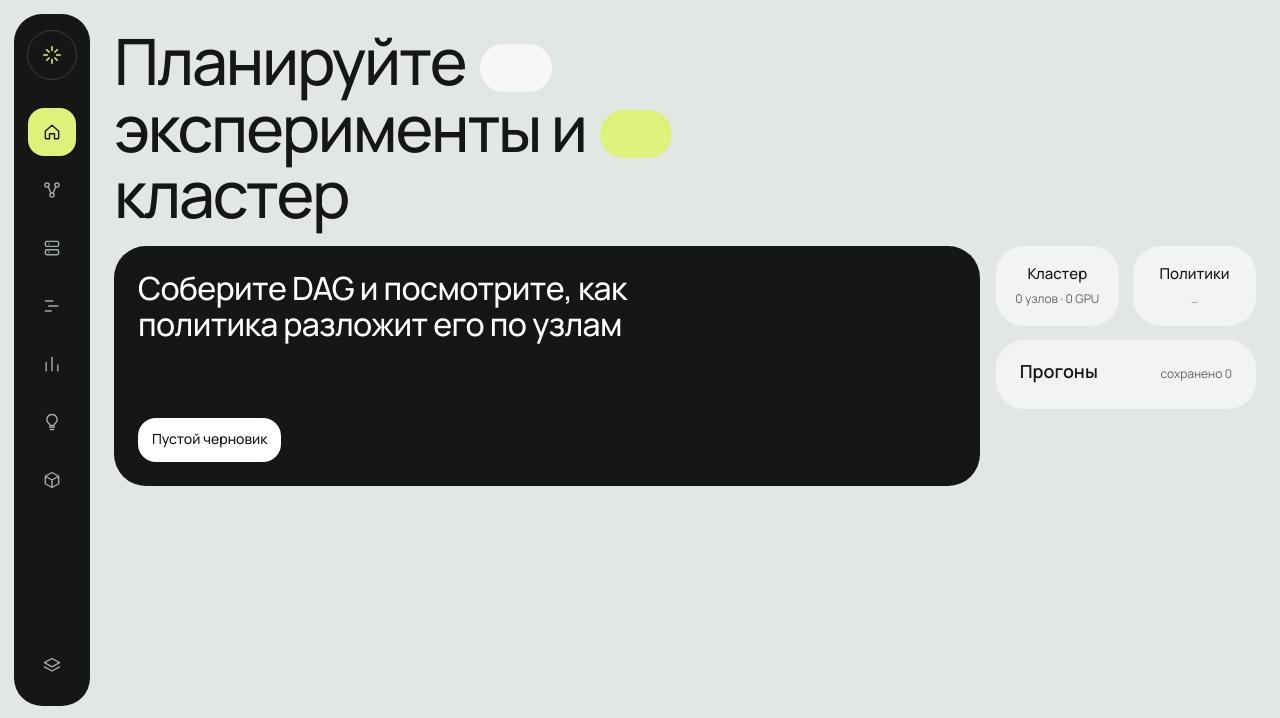
Test: оболочка › переходит по разделам без перезагрузки
The width and height of the screenshot is (1280, 718).
Click the link named "Дизайн-система" at (52, 666), box [42,656,62,676]
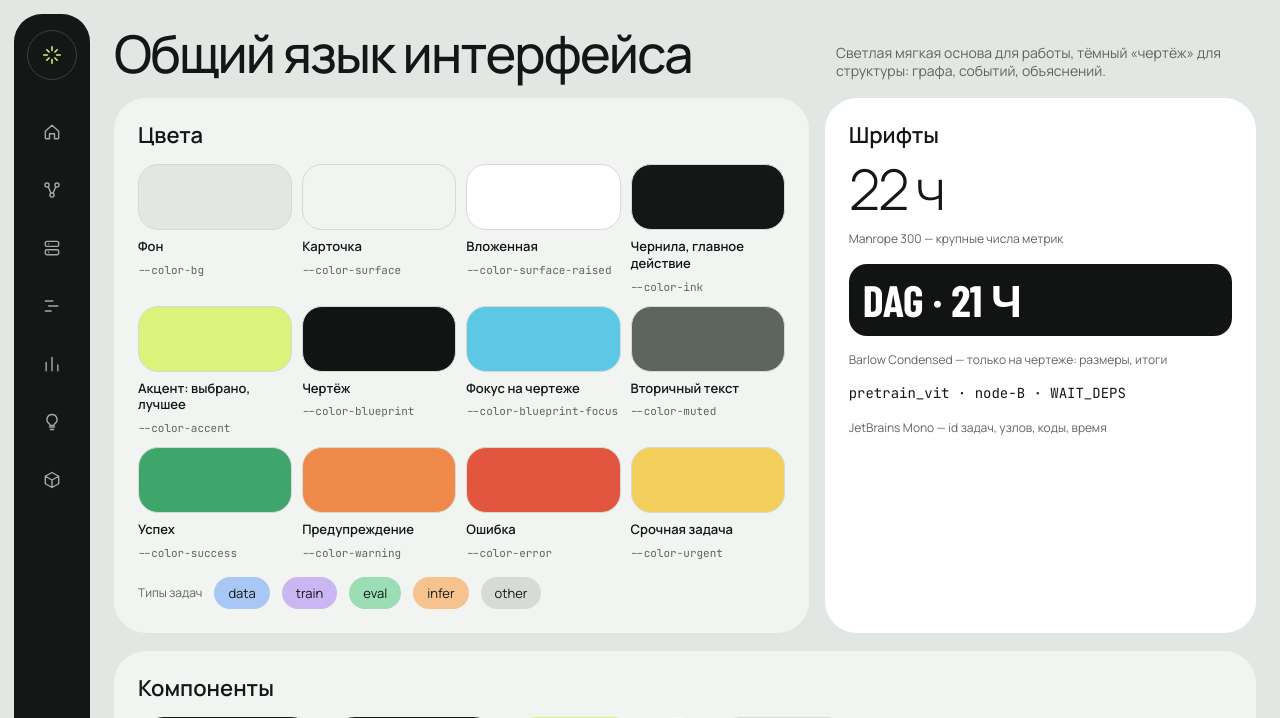
Now the heading "Общий язык интерфейса" is shown, box [114,28,692,80]
Click the link named "Контейнеры" at (52, 480), box [42,470,62,490]
(page scrolled)
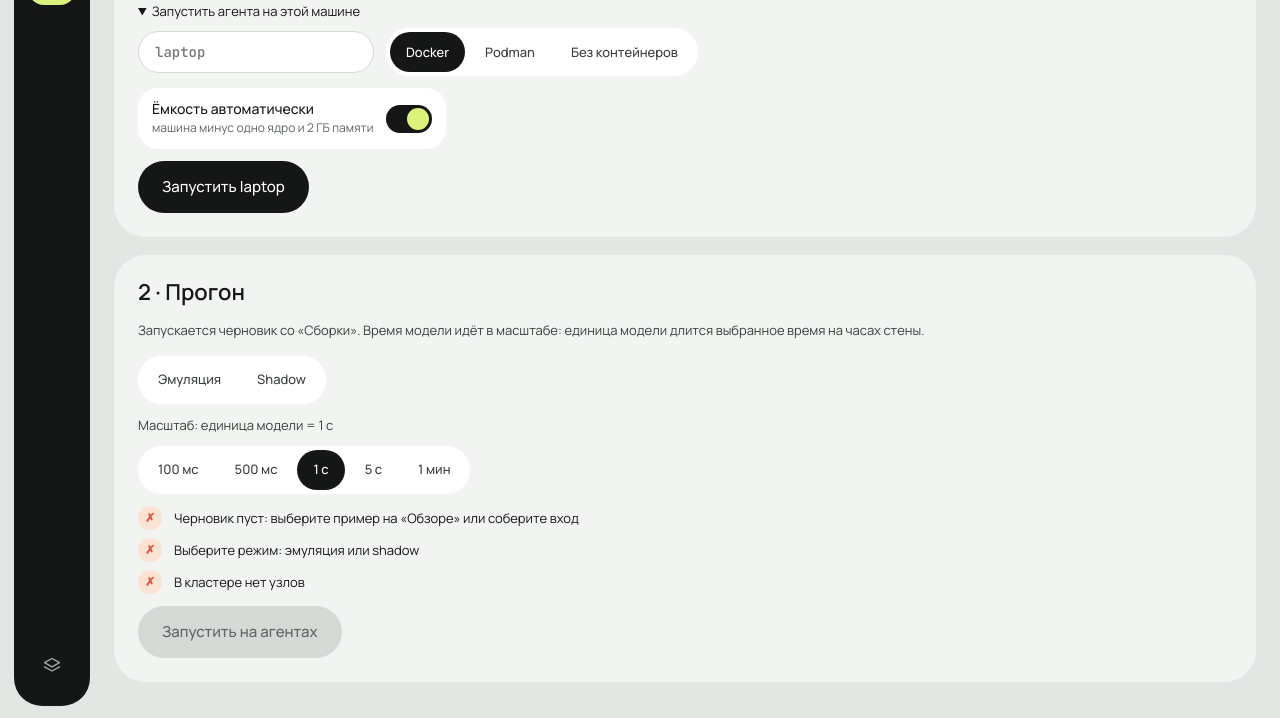
Now the radio button labelled "Эмуляция" is shown, box [142,360,237,400]
